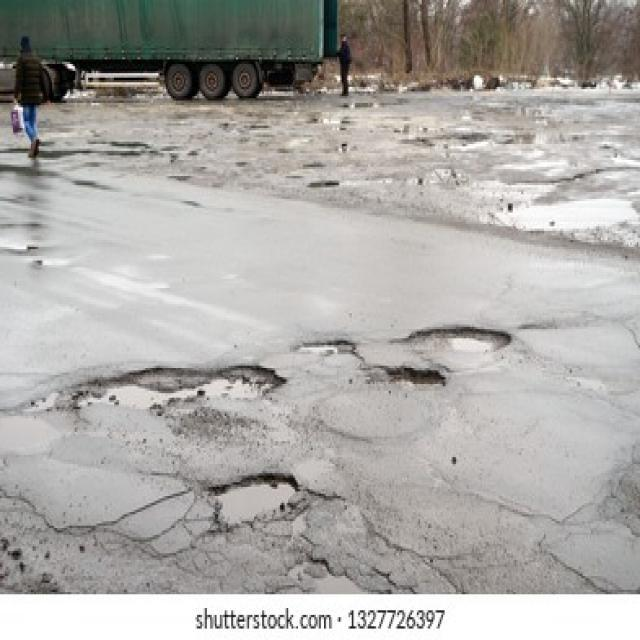Pothole: (76, 361, 286, 416), (210, 473, 300, 528), (388, 326, 512, 354), (357, 363, 448, 398), (293, 338, 358, 357)
